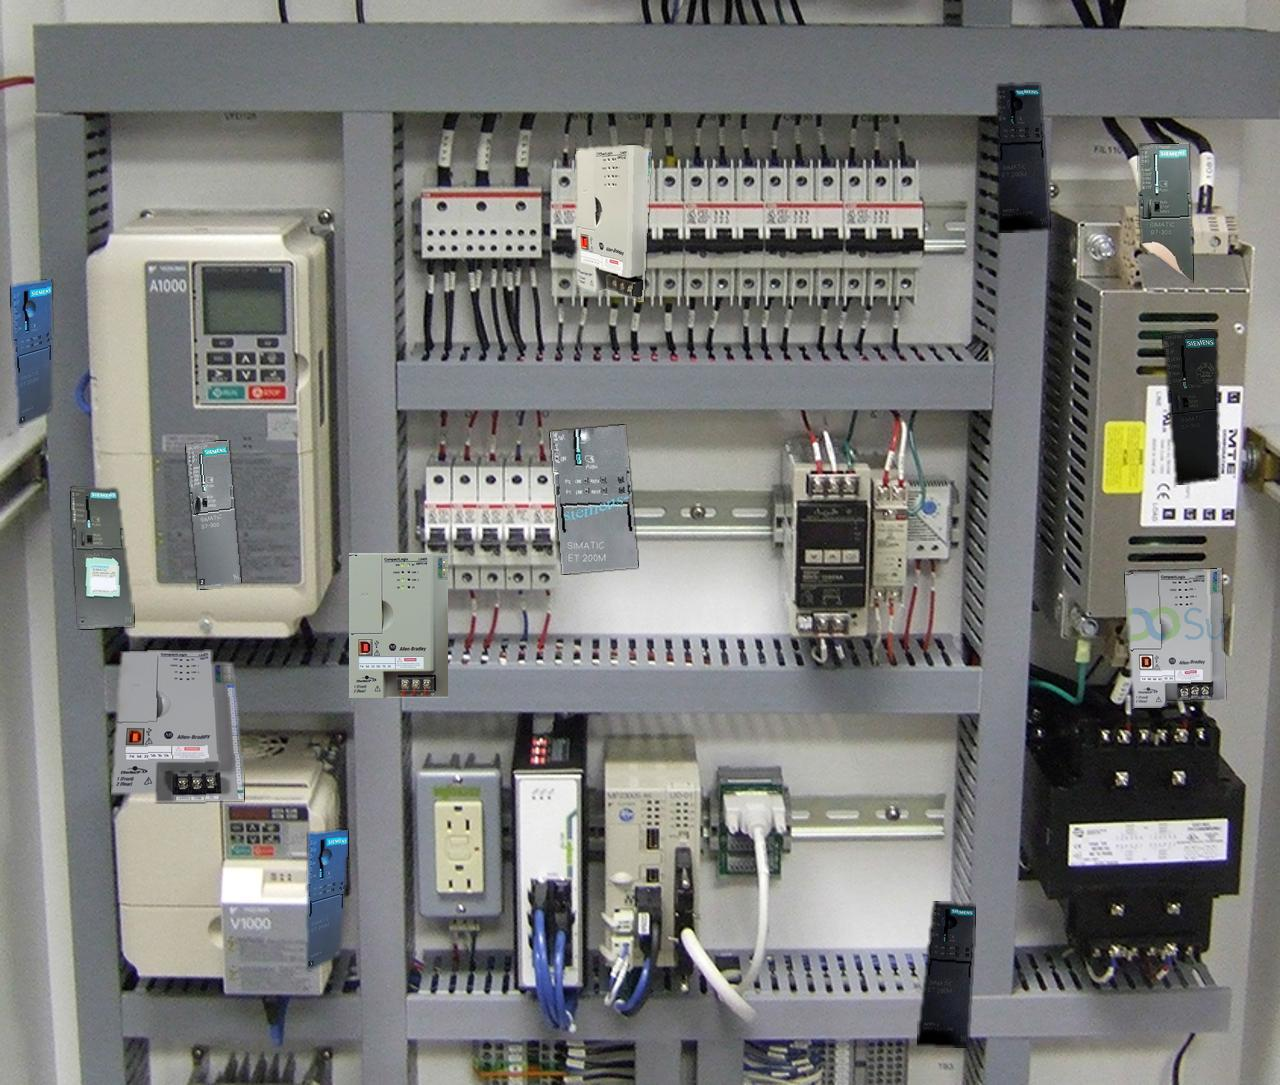AllenBradley: (111, 650, 243, 801), (349, 553, 447, 697), (1125, 568, 1224, 708), (575, 145, 650, 301)
Siemens: (70, 487, 133, 628), (1163, 330, 1218, 483), (186, 440, 240, 589), (1139, 143, 1192, 281)
